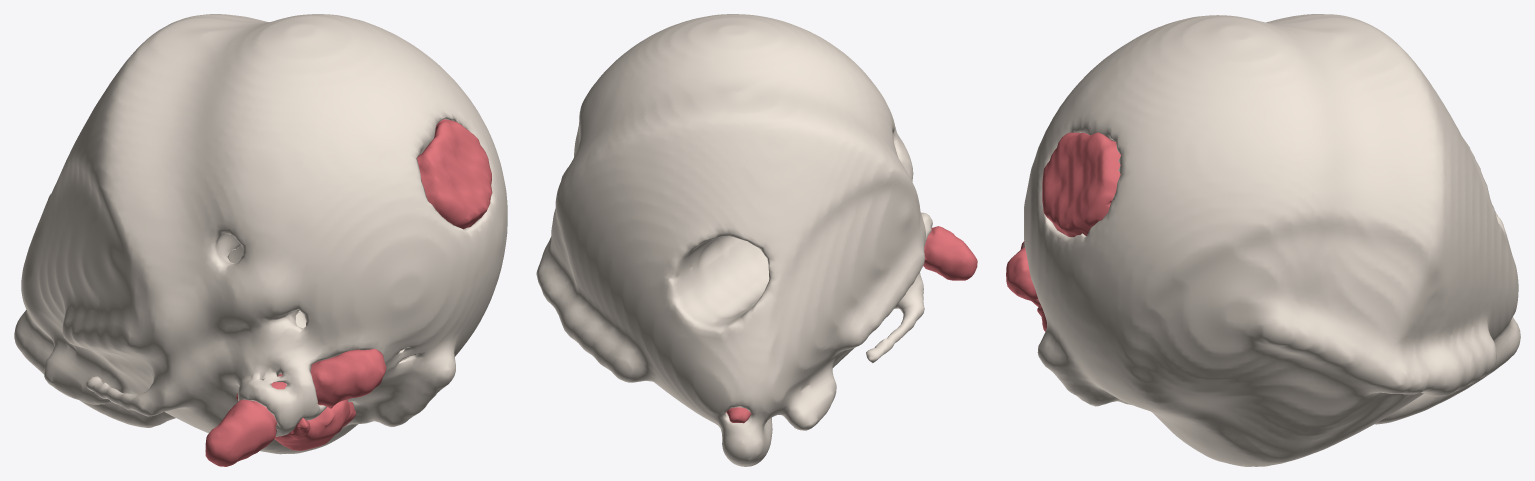
The model's file is case_03.glb.
3 views of the same model, side by side, from view 1: azimuth 30°, elevation 25°; view 2: azimuth 150°, elevation 25°; view 3: azimuth 270°, elevation 25° (orthographic). The views are drawn at different scales.
Visible parts, largest first — view 1: heart, pool; view 2: heart, pool; view 3: heart, pool.
Part boxes in pixels (x1,y1,x2,y2): heart: (14,14,507,454); pool: (205,119,492,466); heart: (536,14,932,466); pool: (726,226,977,423); heart: (1023,14,1520,466); pool: (1006,132,1120,331).
Size of the model in its own units: 126 by 133 by 142.
